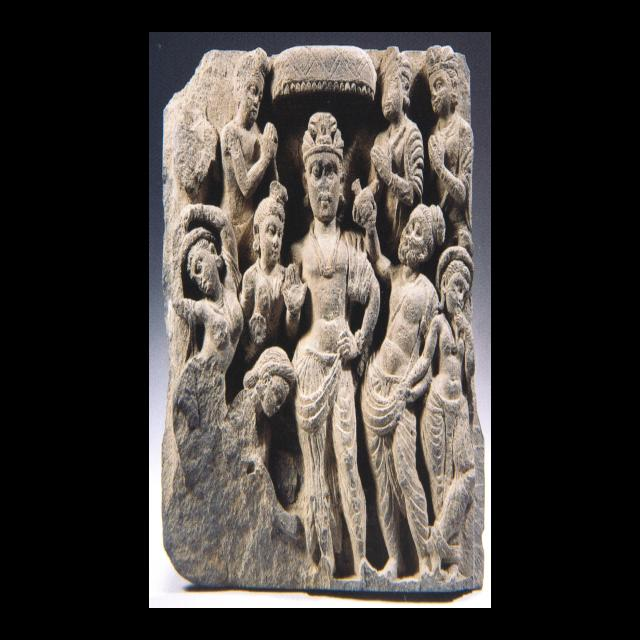buddha-standing: (291, 113, 380, 578)
